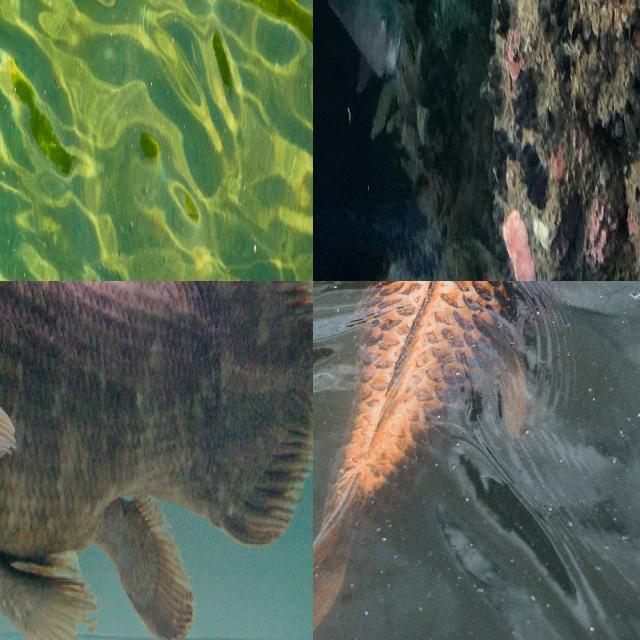fish: (0, 281, 313, 640), (0, 0, 313, 281), (313, 281, 640, 529)
